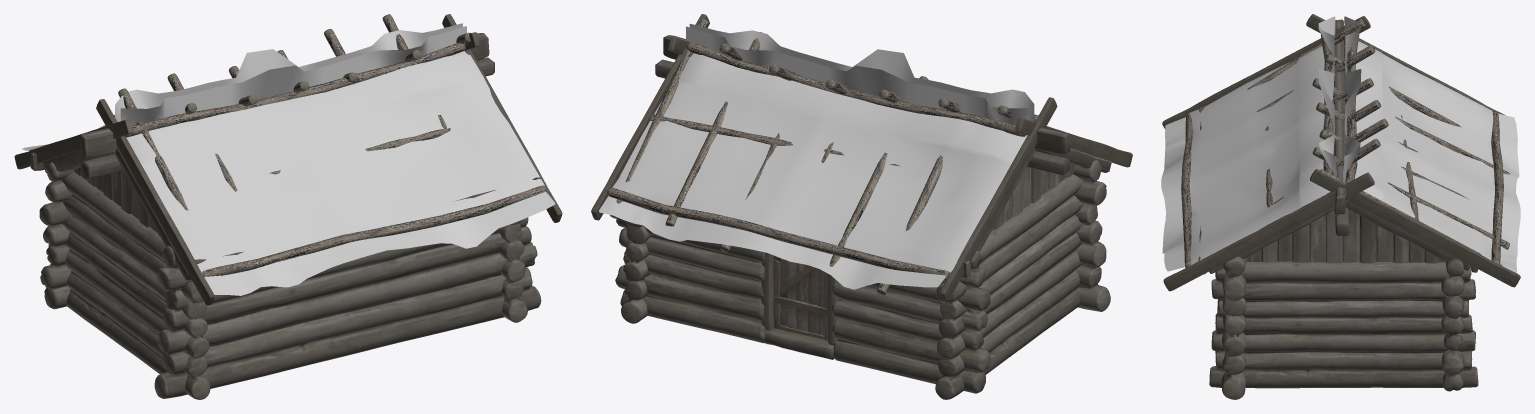
The model's file is build_small_house_straw_roof_01_low.glb.
3 views of the same model, side by side, from view 1: azimuth 30°, elevation 25°; view 2: azimuth 150°, elevation 25°; view 3: azimuth 270°, elevation 25° (orthographic). The views are drawn at different scales.
Visible parts, largest first — view 1: build_small_house_straw_roof_01; view 2: build_small_house_straw_roof_01; view 3: build_small_house_straw_roof_01.
Boxes of the visible parts, bbox=[...] form: build_small_house_straw_roof_01: bbox=[14, 14, 562, 399]; build_small_house_straw_roof_01: bbox=[591, 14, 1132, 399]; build_small_house_straw_roof_01: bbox=[1161, 14, 1520, 399].
Bounding box in the file's own units: 10.24 × 6.11 × 8.47.
Materials: 4 (2 with a texture image).
